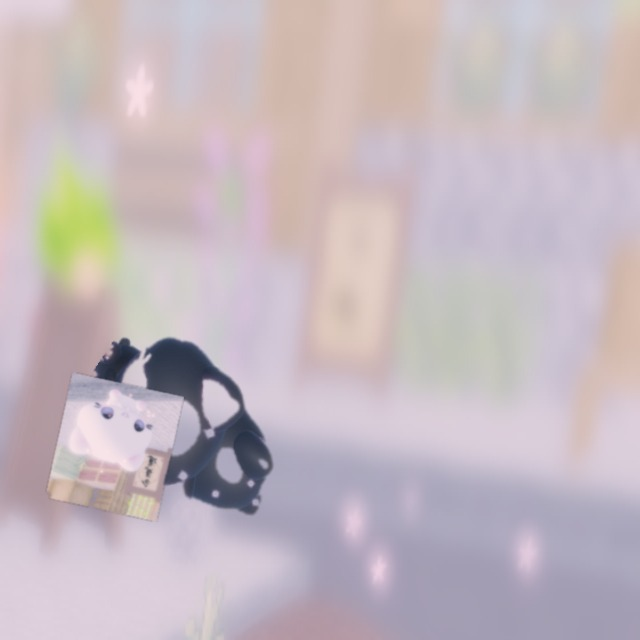urso_branco: (45, 372, 184, 522)
urso_preto: (42, 300, 331, 574)
